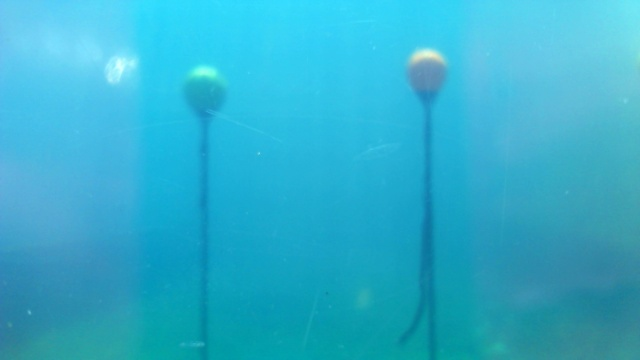buoy_green: (180, 63, 228, 119)
buoy_red: (407, 51, 446, 102)
